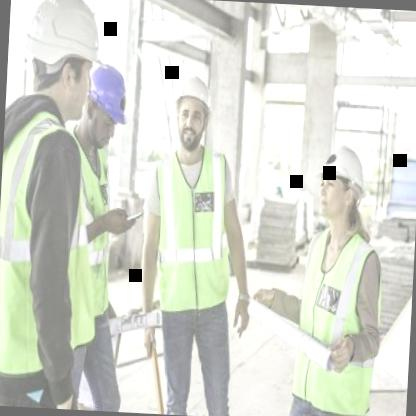helmet: (17, 0, 103, 125), (312, 136, 372, 230), (80, 58, 132, 152), (169, 66, 217, 156)
